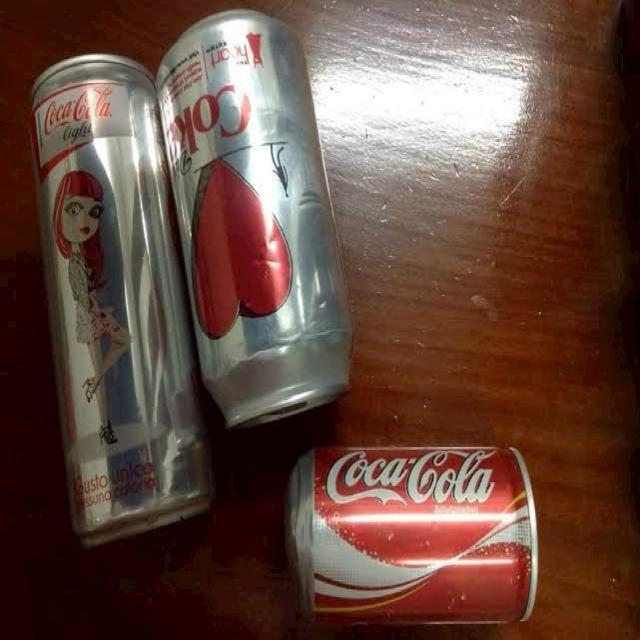can: (158, 19, 366, 423), (284, 443, 529, 620)
